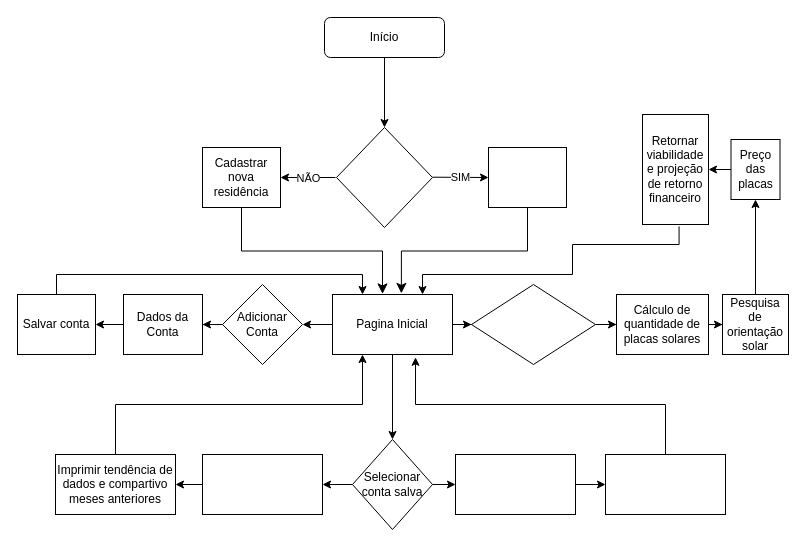
Some shapes in this 806 by 547 pixel diagram are drawn without their labels. The centre of each missing label's shape, as x and y in pixels:
"Alterar Conta" belongs at point (515, 484).
"Atualizar o banco de dados" belongs at point (665, 484).
"Consumo no período" belongs at point (262, 484).
"Residência já cadastrada?" belongs at point (384, 177).
"Selecionar residência" belongs at point (527, 177).
"Sustentabilidade" belongs at point (533, 324).
